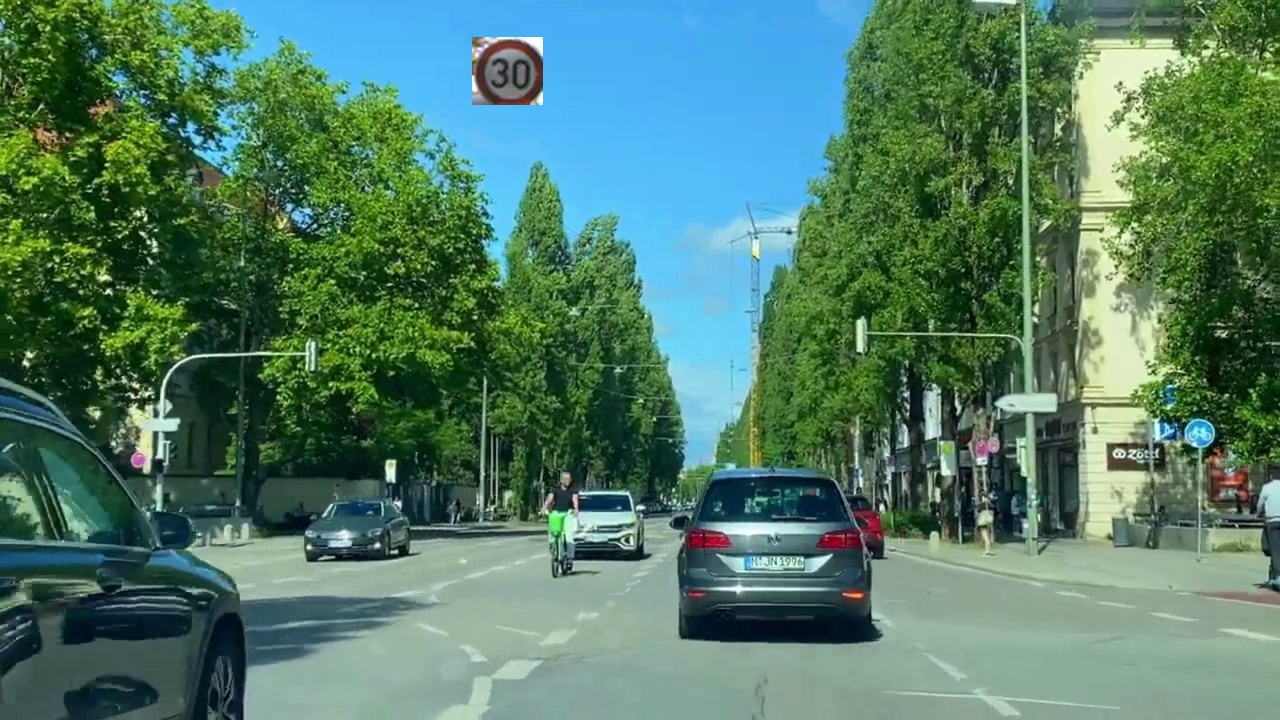Speed 30: (472, 37, 543, 105)
